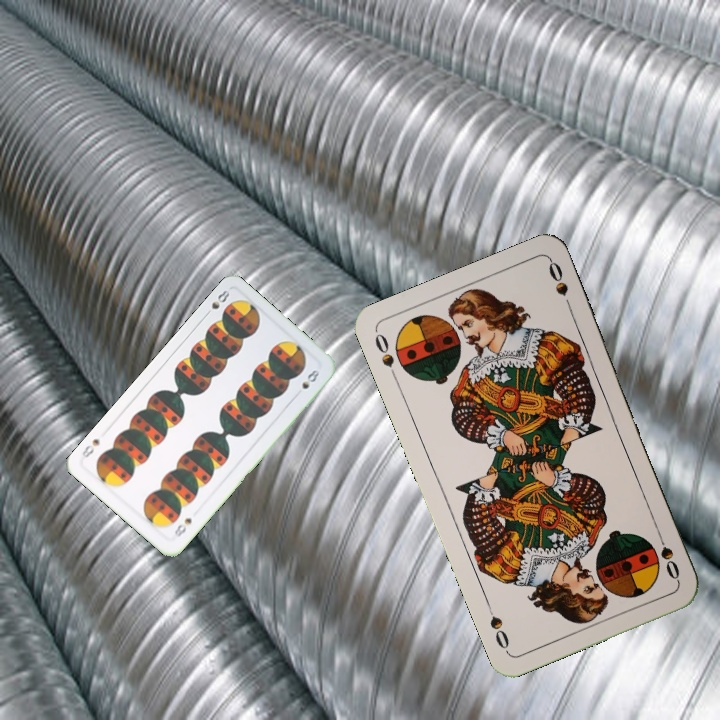S8: (200, 286, 232, 320), (169, 514, 194, 540)
SO: (370, 329, 401, 385), (653, 526, 683, 583)
